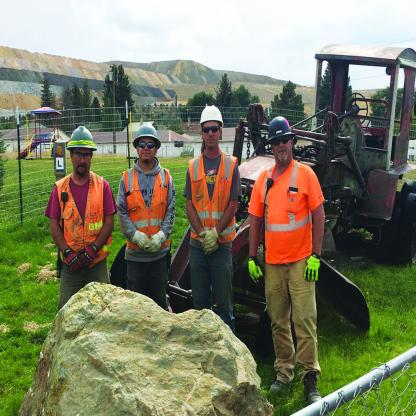person: (247, 110, 319, 413), (34, 108, 116, 304), (184, 96, 243, 348), (118, 96, 182, 318)
